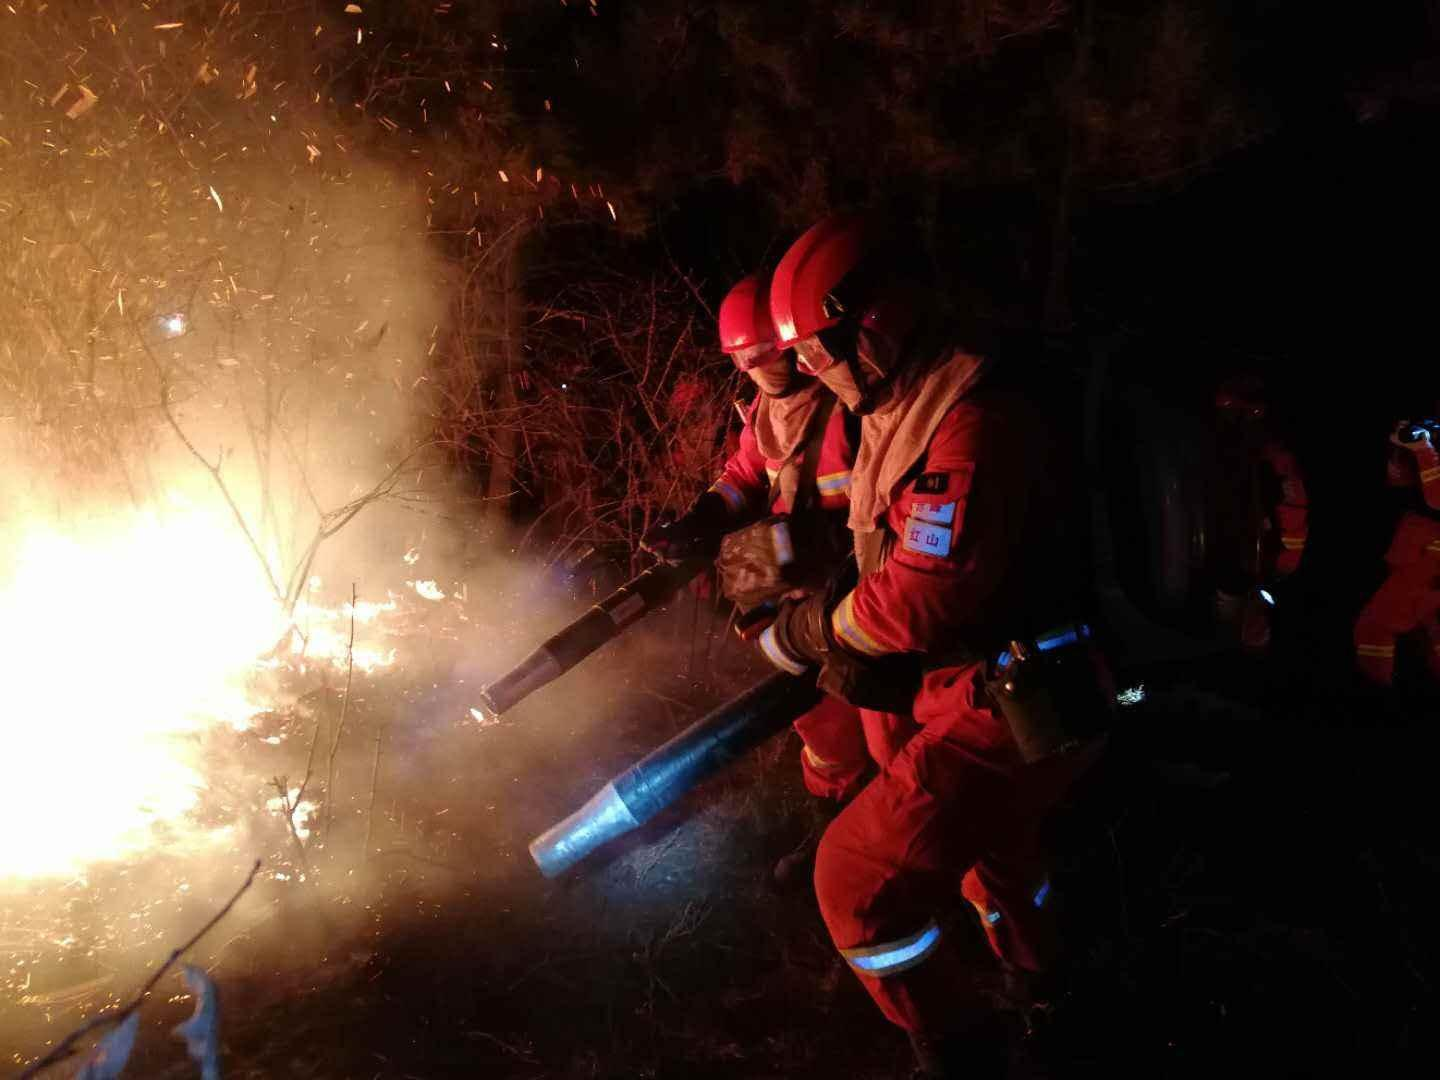fire: (2, 465, 420, 889)
